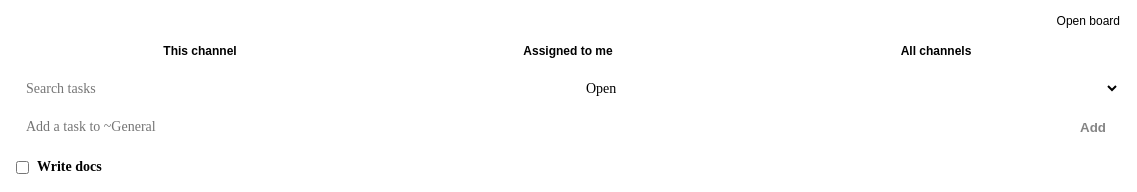
Test: TasksPanel › completes a task inline and marks it done at once
Expected: the button "Write docs" is shown, [37,159,1120,175]
Click the checkbox named "Mark as done". click: {"x": 22, "y": 167}
box: [16,160,29,174]
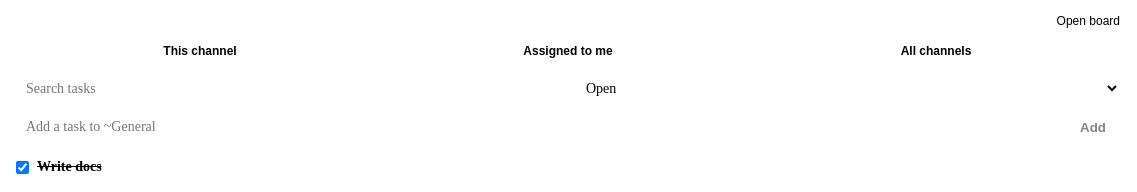
Expected: the checkbox named "Mark as not done" is shown, [16,160,29,174]
